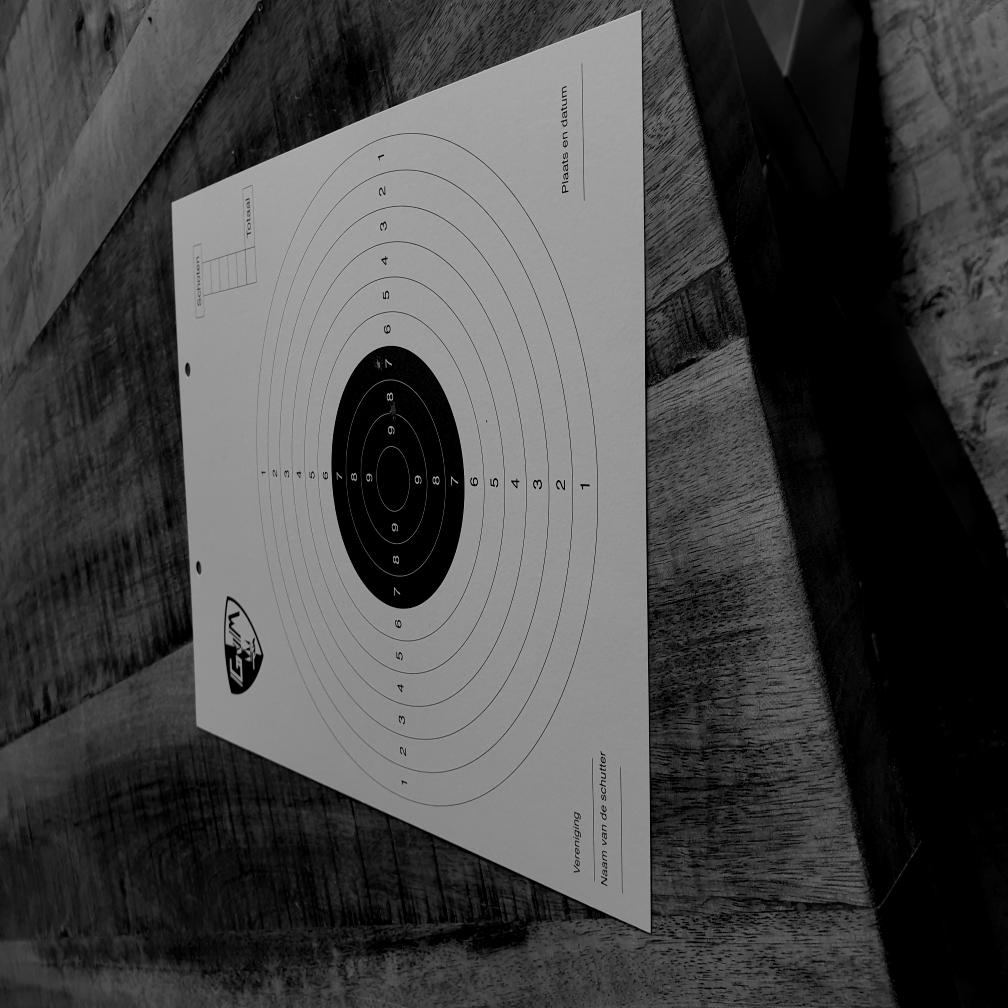7: (374, 356, 382, 372)
9: (388, 400, 398, 422)
Target: (256, 129, 597, 805)
black_contour: (331, 344, 464, 610)
